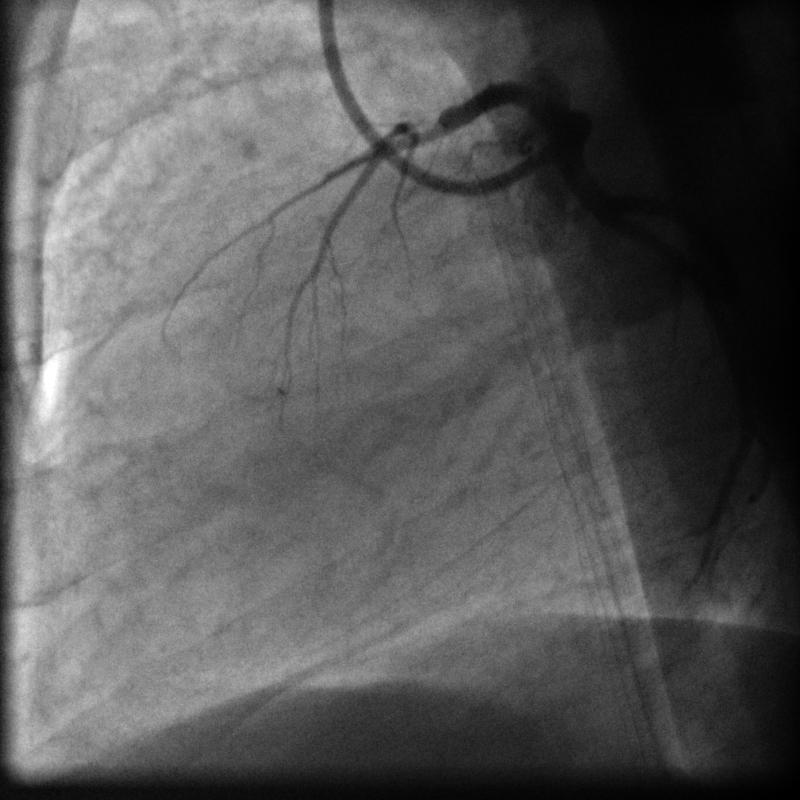Stenosis: (382, 110, 448, 153)
